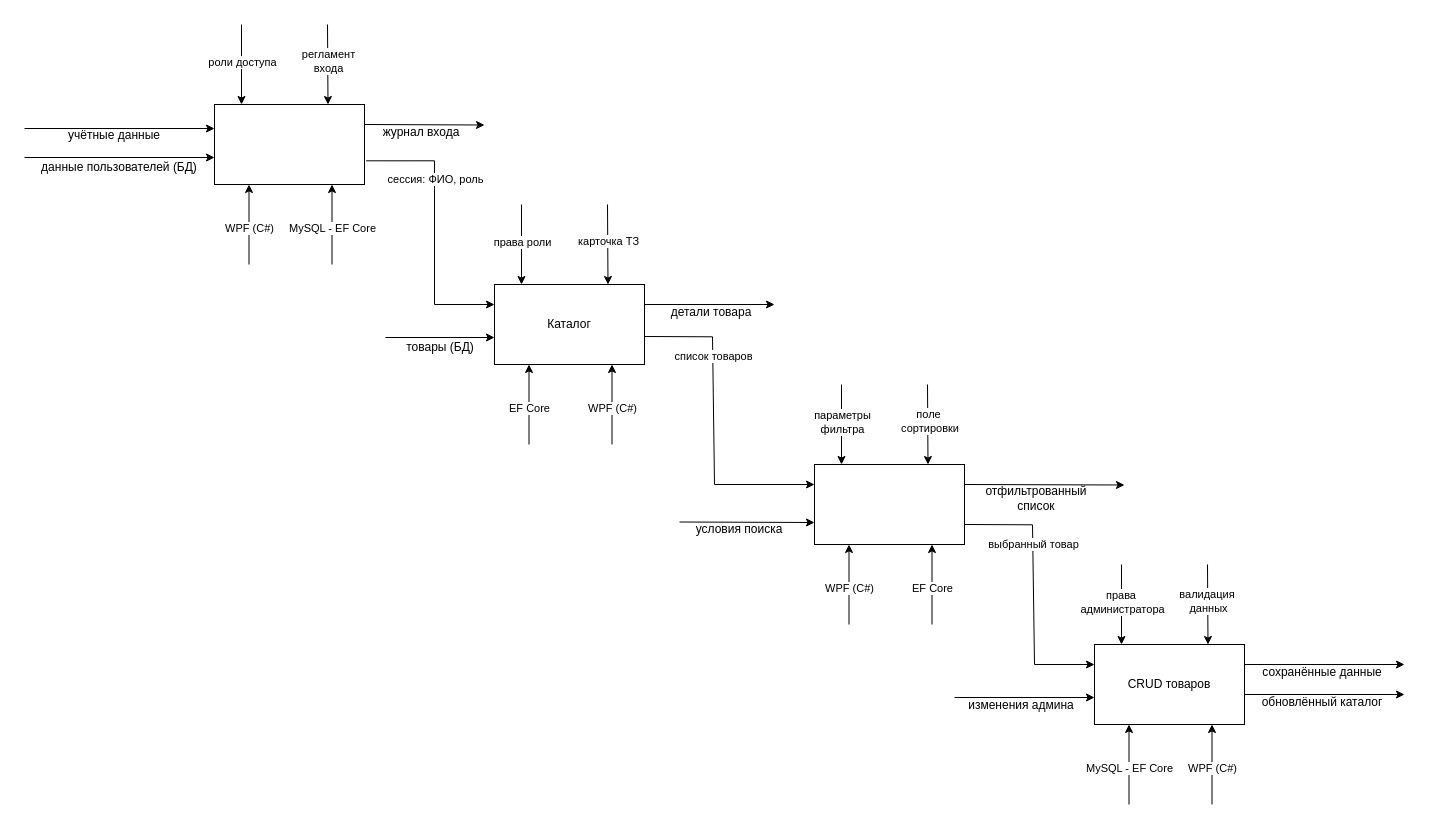
This 1430x830 diagram has some shape labels left out. Each missing label, with the centre of its shape:
"Авторизация" goes at pixel 289 144.
"Поиск / фильтр / сорт" goes at pixel 889 504.
